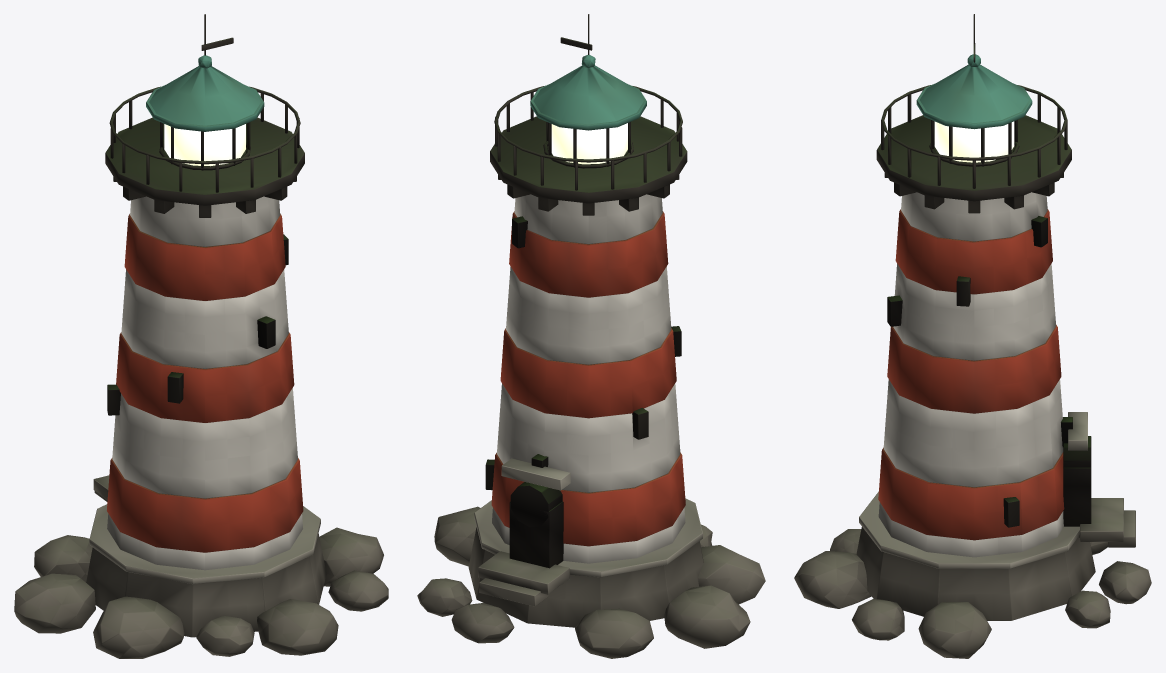
Rendered from lighthouse.glb.
3 renders of one model, left to right at view 1: azimuth 30°, elevation 25°; view 2: azimuth 150°, elevation 25°; view 3: azimuth 270°, elevation 25°, orthographic. The views are drawn at different scales.
Visible parts, largest first — view 1: lighthouse; view 2: lighthouse; view 3: lighthouse.
Boxes of the visible parts, x1,y1,x2,y2 form: lighthouse: (14, 14, 388, 658); lighthouse: (417, 14, 765, 658); lighthouse: (794, 14, 1151, 658).
Size of the model in its own units: 9.45 by 16.06 by 8.97.
